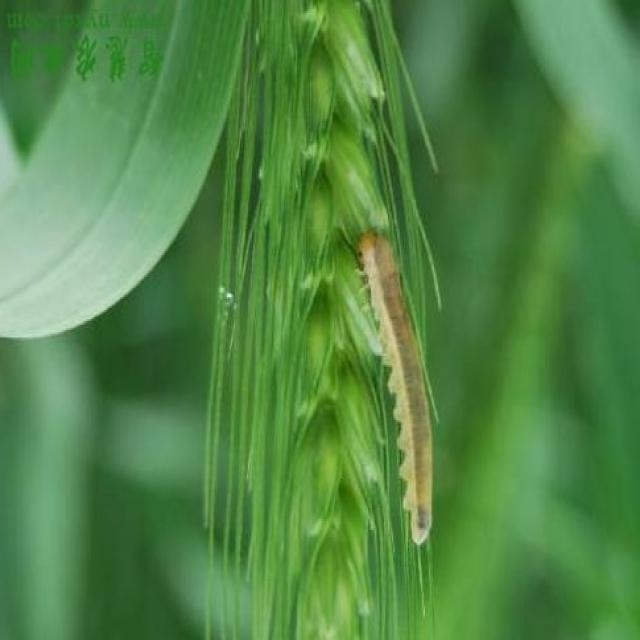army worm: (351, 235, 437, 552)
